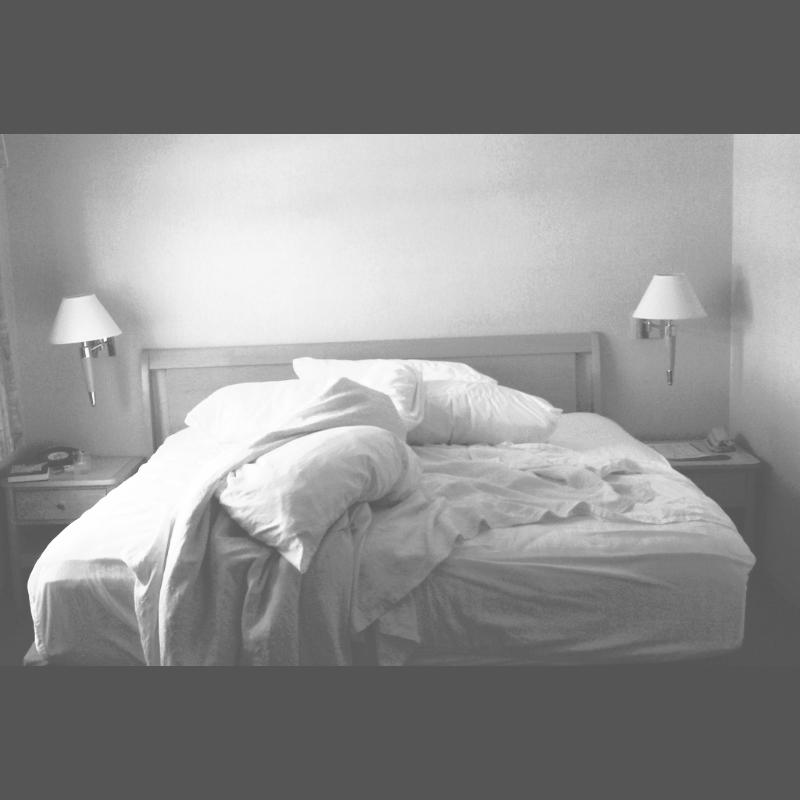pillow: (192, 381, 432, 571), (294, 362, 572, 438), (172, 366, 303, 442)
